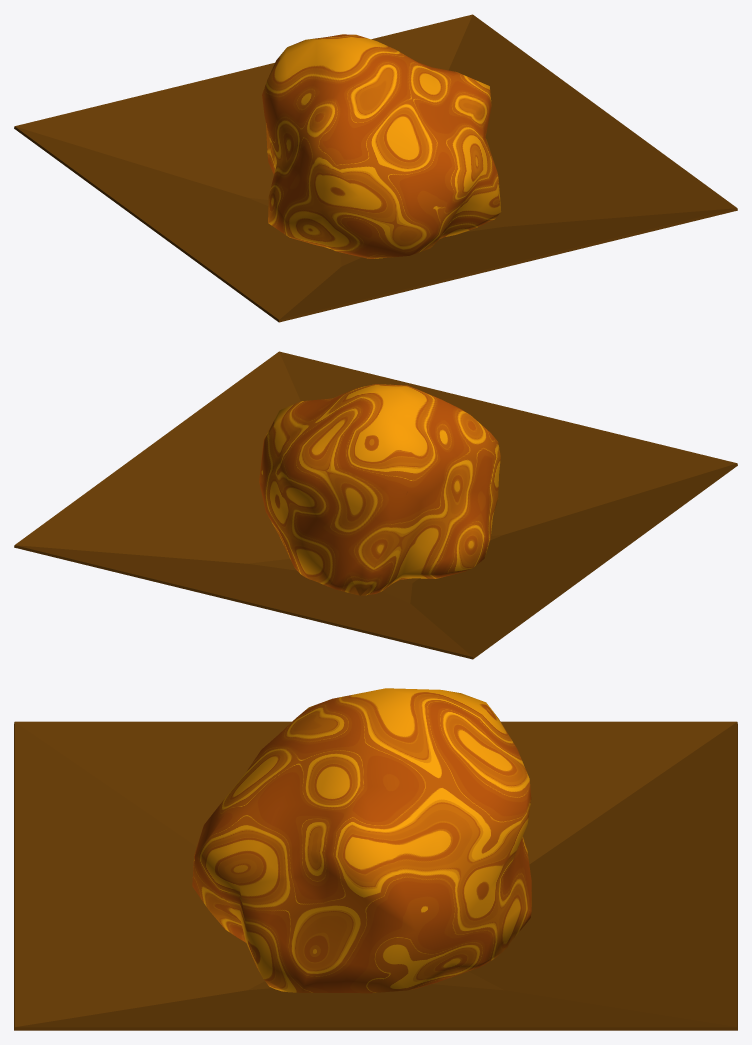
File: plant resin.fbx
The picture shows the model from 3 angles, top to bottom: view 1: azimuth 30°, elevation 25°; view 2: azimuth 150°, elevation 25°; view 3: azimuth 270°, elevation 25°; orthographic projection. The views are drawn at different scales.
Visible parts, largest first — view 1: resin; view 2: resin; view 3: resin.
Part boxes in pixels (x1,y1,x2,y2): resin: (14,14,737,322); resin: (14,351,737,659); resin: (14,688,737,1030).
Bounding box in the file's own units: 161 × 61.57 × 161.
